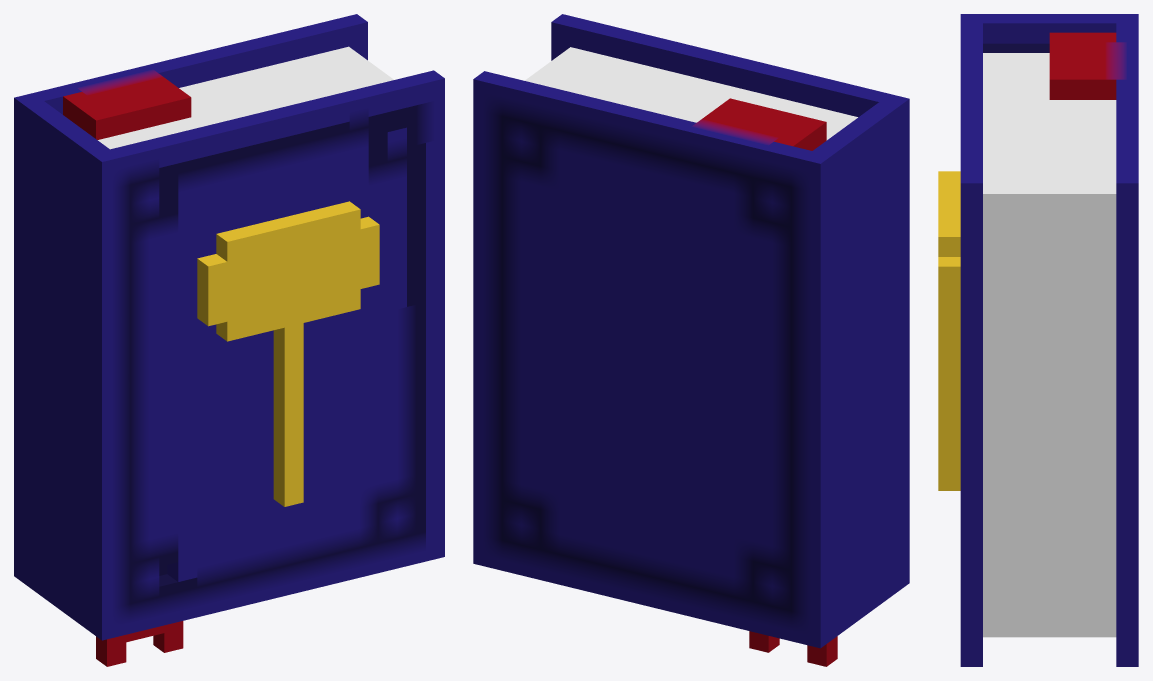
Rendered from Encyclopedia.dae.
3 renders of one model, left to right at view 1: azimuth 30°, elevation 25°; view 2: azimuth 150°, elevation 25°; view 3: azimuth 270°, elevation 25°, orthographic.
Parts seen in each view (by area): view 1: Matrix; view 2: Matrix; view 3: Matrix.
Boxes of the visible parts, bbox=[...] form: Matrix: bbox=[14, 14, 444, 666]; Matrix: bbox=[473, 14, 909, 666]; Matrix: bbox=[938, 14, 1138, 666].
Bounding box in the file's own units: 18 × 27 × 9.
Materials: 1 (1 with a texture image).
